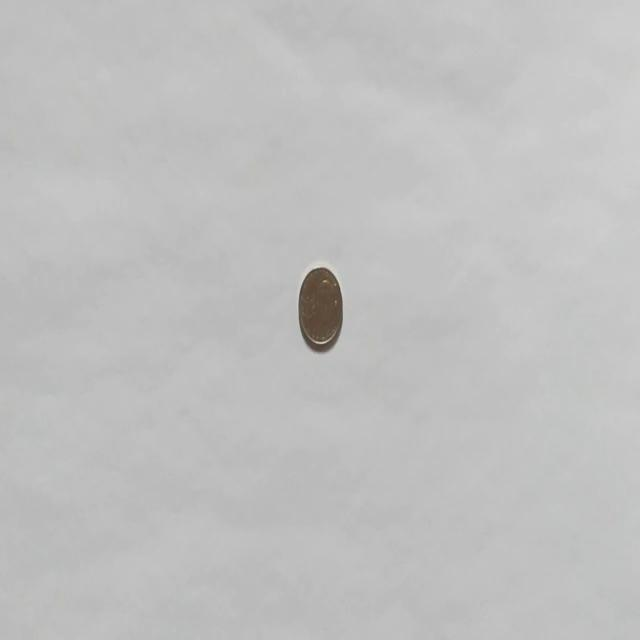seribu rupiah koin: (296, 262, 344, 350)
